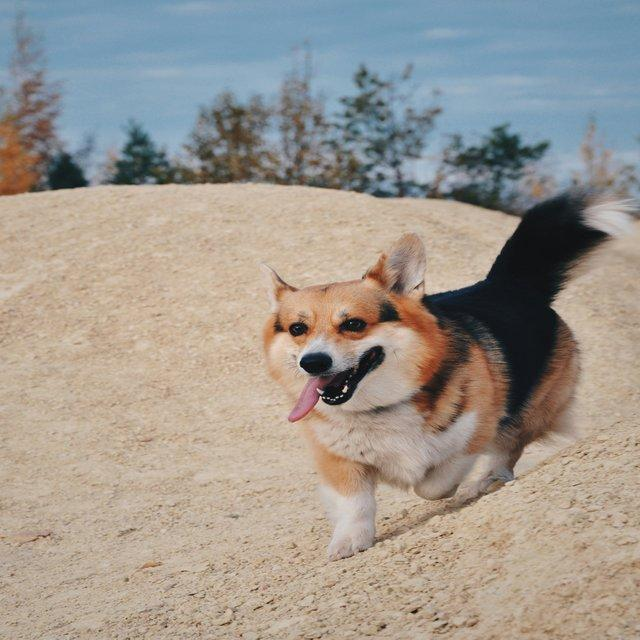corgi: (259, 188, 637, 561)
